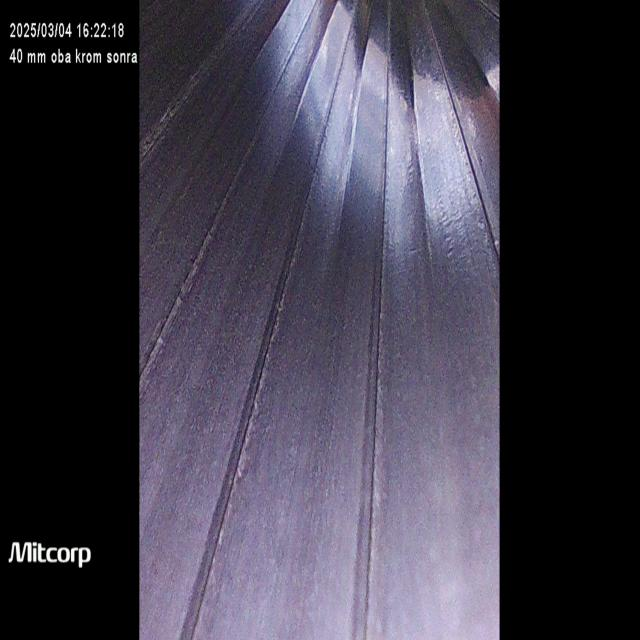hata_8.1: (166, 229, 315, 640)
